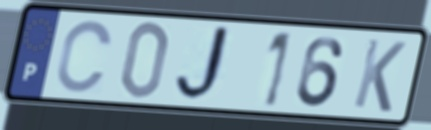0: (117, 19, 171, 102)
1: (263, 30, 294, 109)
6: (295, 35, 345, 109)
C: (53, 18, 116, 96)
J: (172, 24, 239, 105)
K: (350, 36, 409, 116)
